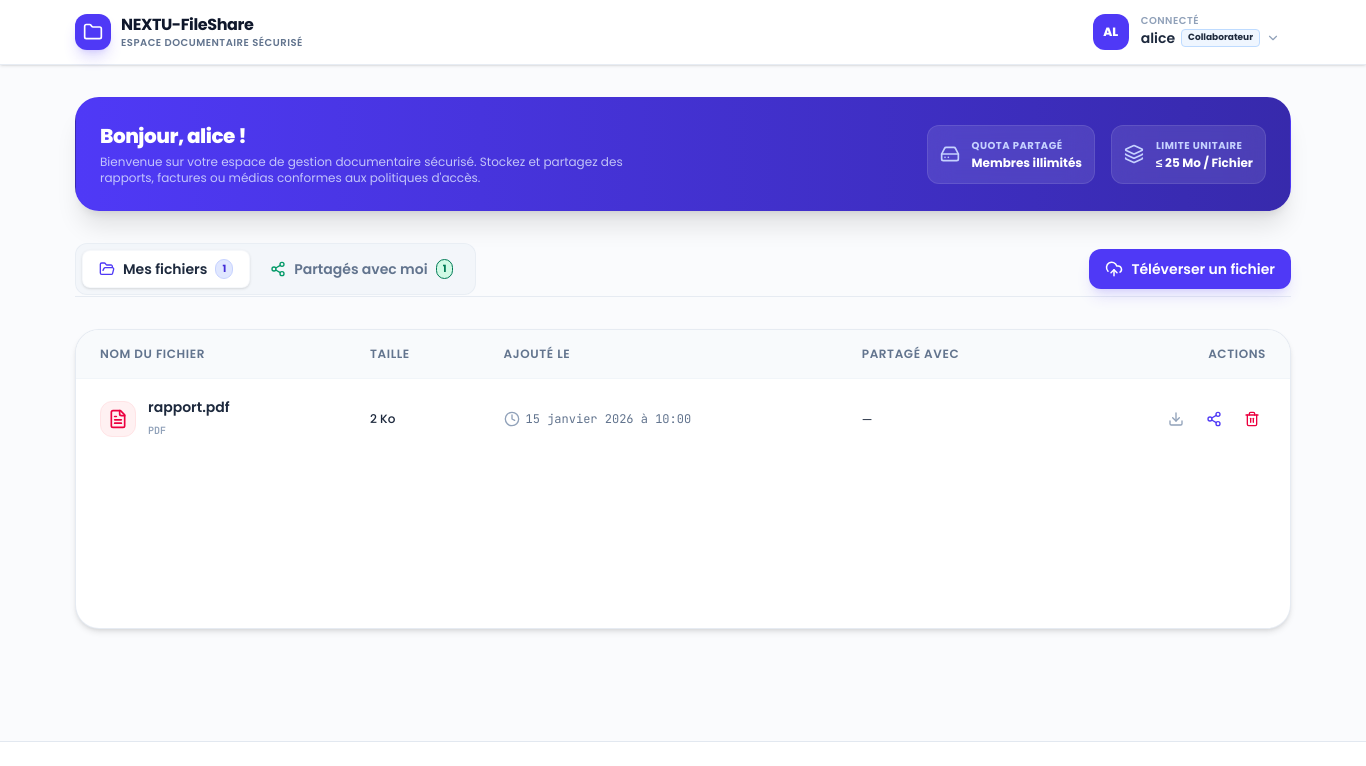
Test: Dashboard › opens delete confirmation and deletes file
Click the button titled "Supprimer le fichier" at (1252, 419), box [1238,405,1266,433]
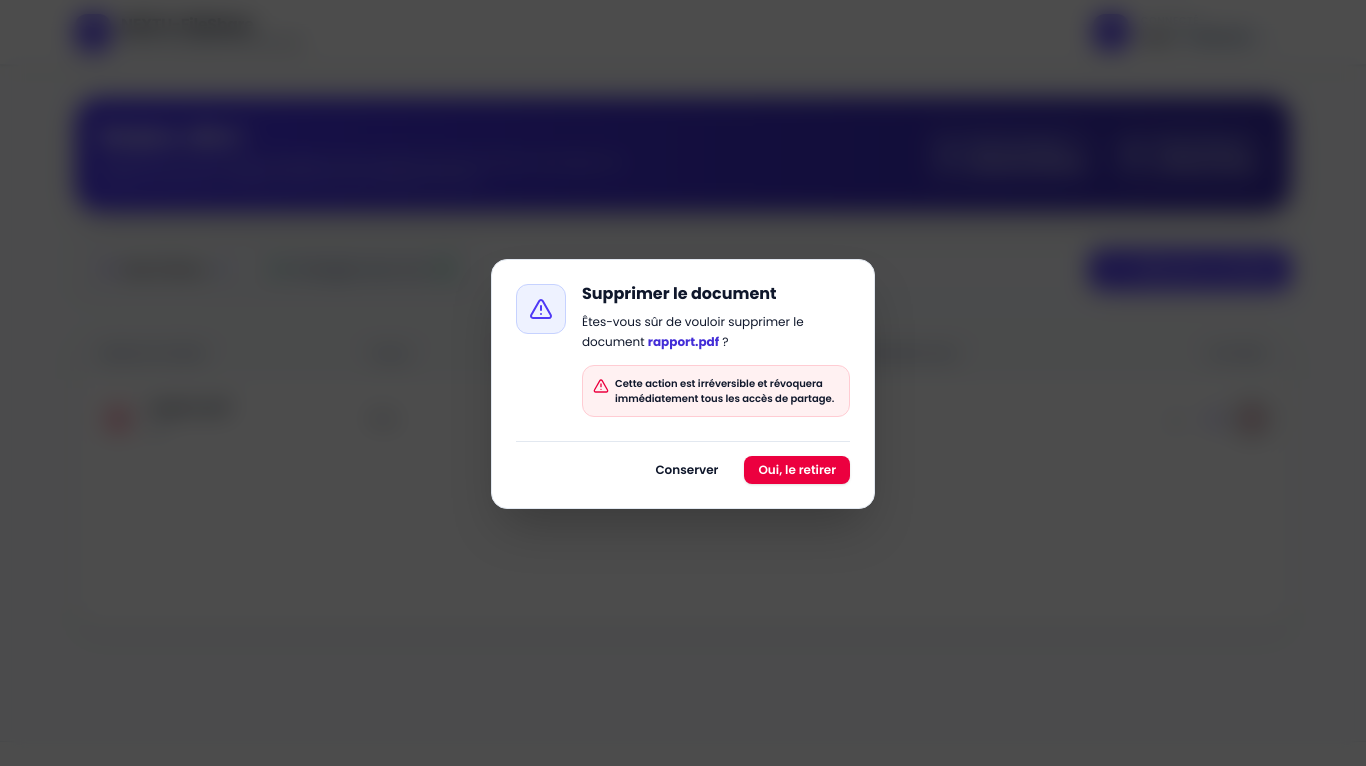
Click the button "Oui, le retirer" at (797, 470), box [744,456,850,484]
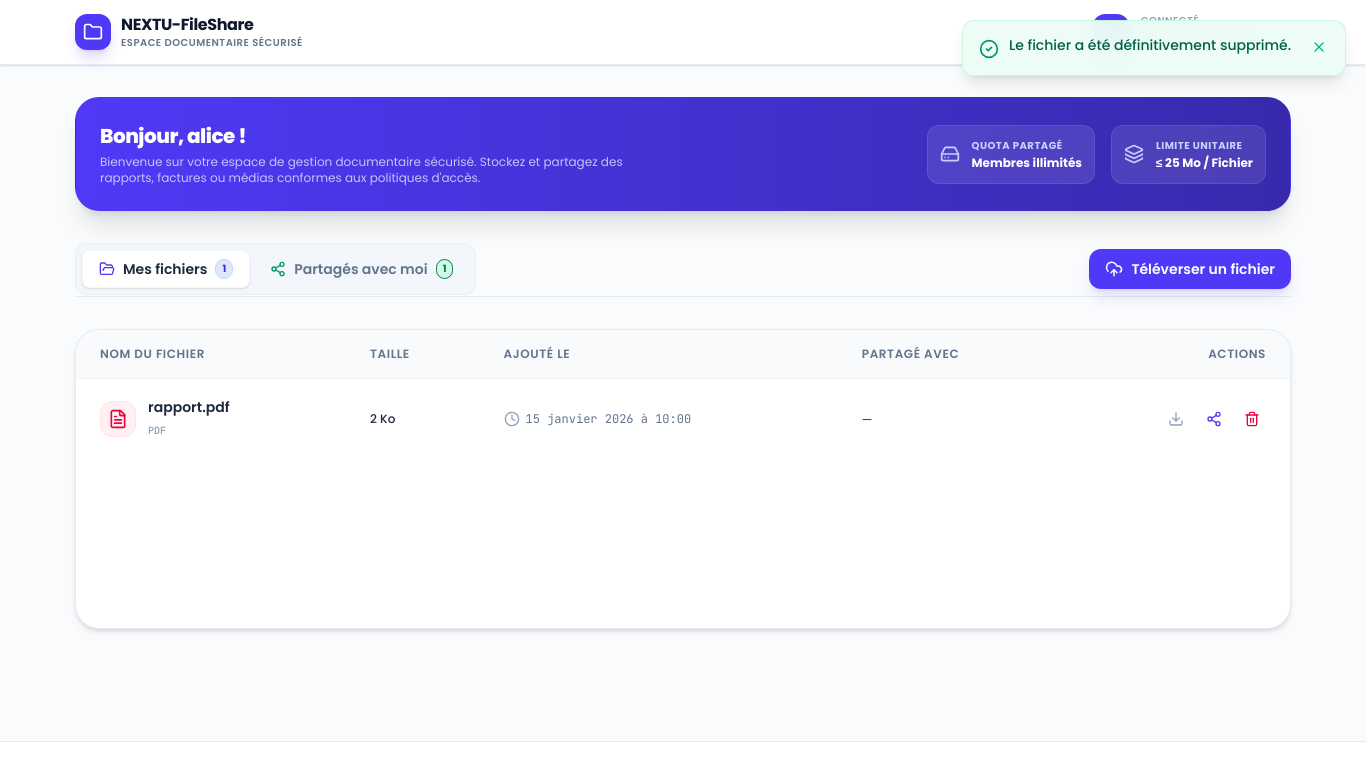
Expected: the text "Le fichier a été définitivement supprimé." is shown, [1009,37,1291,54]
